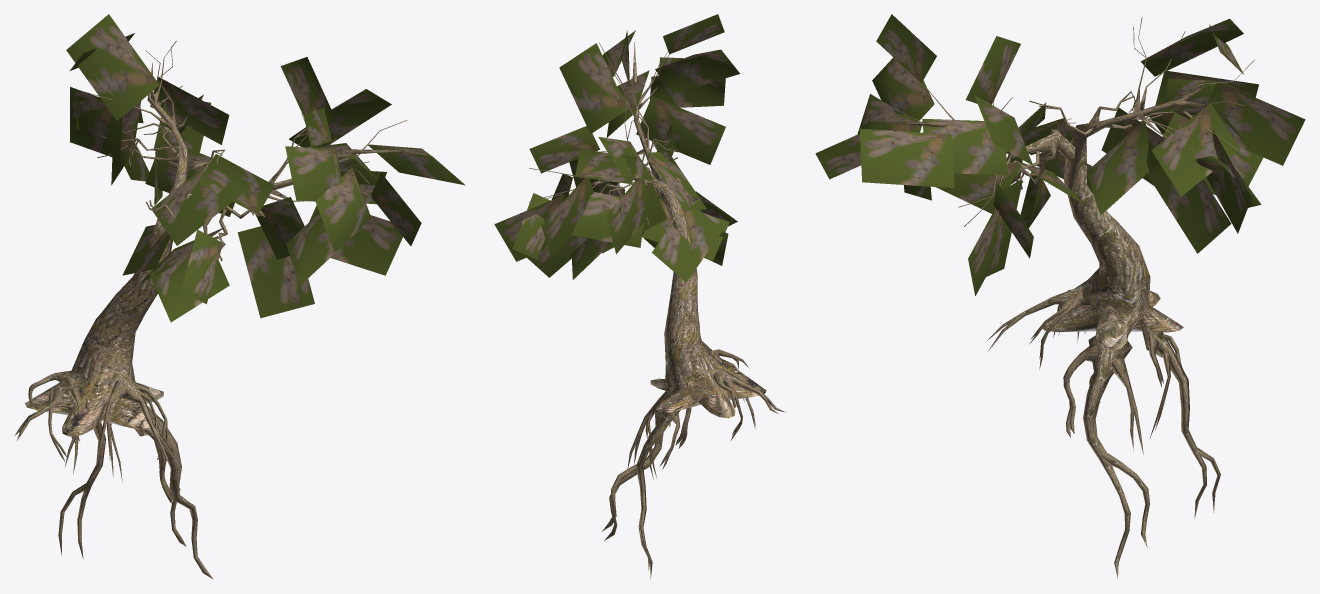
Rendered from tree_dead_lowpoly_2.fbx.
The picture shows the model from 3 angles, left to right: view 1: azimuth 30°, elevation 25°; view 2: azimuth 150°, elevation 25°; view 3: azimuth 270°, elevation 25°; orthographic projection. The views are drawn at different scales.
Parts seen in each view (by area): view 1: branch06_2, mossybark02_0; view 2: branch06_2, mossybark02_0; view 3: branch06_2, mossybark02_0.
Boxes of the visible parts, box(x1,y1,x2,y2) form: branch06_2: box(66, 14, 465, 322); mossybark02_0: box(14, 41, 408, 579); branch06_2: box(494, 14, 739, 282); mossybark02_0: box(529, 42, 785, 579); branch06_2: box(815, 14, 1305, 295); mossybark02_0: box(876, 17, 1254, 578).
Size of the model in its own units: 415 by 654 by 519.
Materials: 2 (2 with a texture image).
